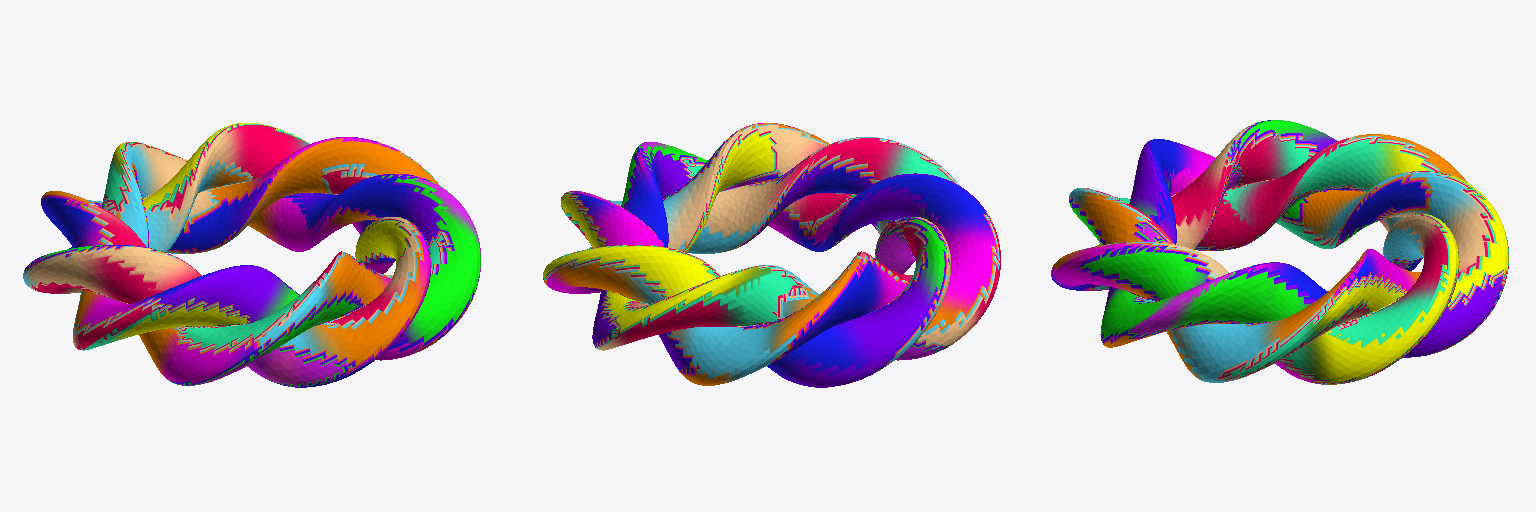
The picture shows the model from 3 angles: view 1: azimuth 30°, elevation 25°; view 2: azimuth 150°, elevation 25°; view 3: azimuth 270°, elevation 25°; orthographic projection.
Size of the model in its own units: 16.16 by 4.48 by 16.33.
Materials: 1 (1 with a texture image).